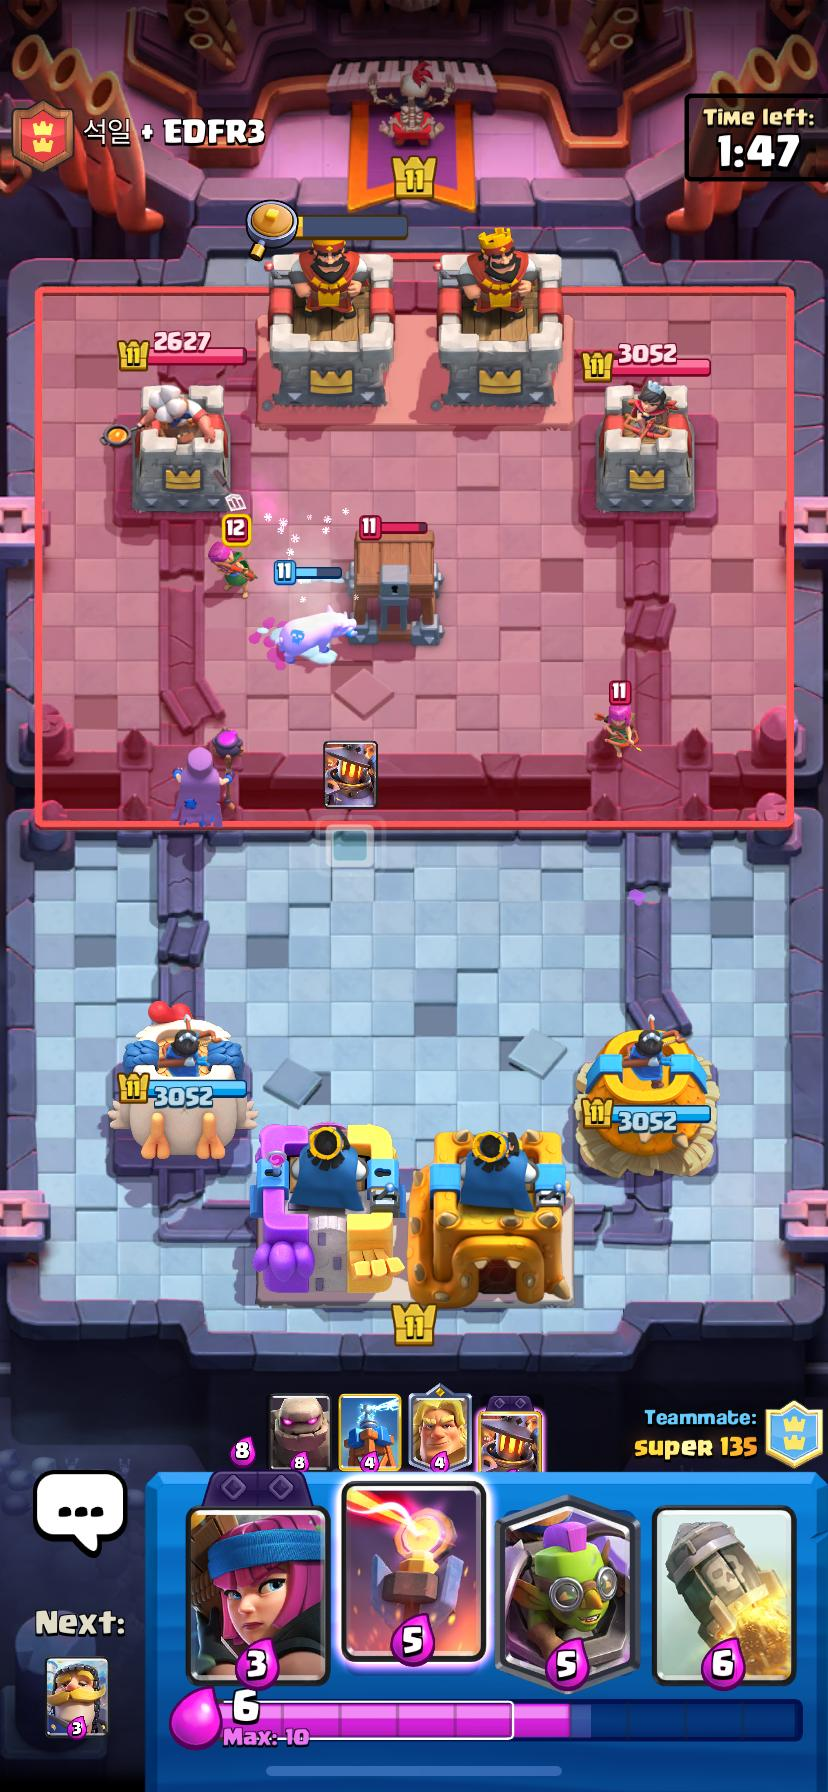EArcher: (596, 681, 639, 757), (208, 541, 256, 595)
EGoblinCage: (352, 515, 443, 645)
EKingTower: (432, 227, 563, 409), (263, 238, 393, 409)
EnemyPanTower: (132, 382, 230, 514)
EnemyPrincessTower: (595, 378, 694, 515)
OHog: (269, 605, 356, 666)
OMotherWitch: (172, 746, 228, 827)
OwnKingTower: (417, 1130, 573, 1305), (253, 1123, 403, 1302)
OwnPrincessTower: (576, 1016, 717, 1177), (119, 1003, 256, 1159)
